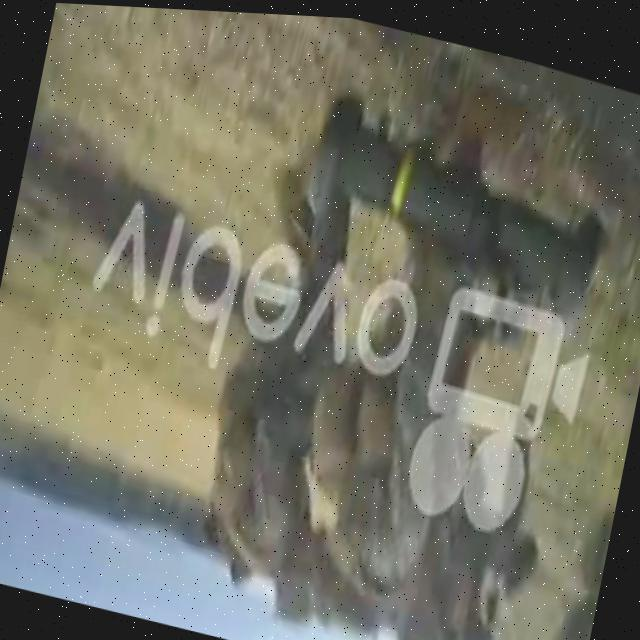rocket: (297, 81, 623, 311)
